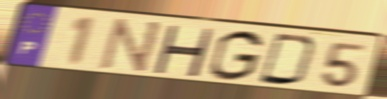1: (66, 15, 99, 68)
5: (320, 41, 370, 89)
D: (256, 31, 321, 88)
G: (206, 29, 266, 83)
H: (150, 23, 216, 79)
N: (95, 17, 165, 77)
